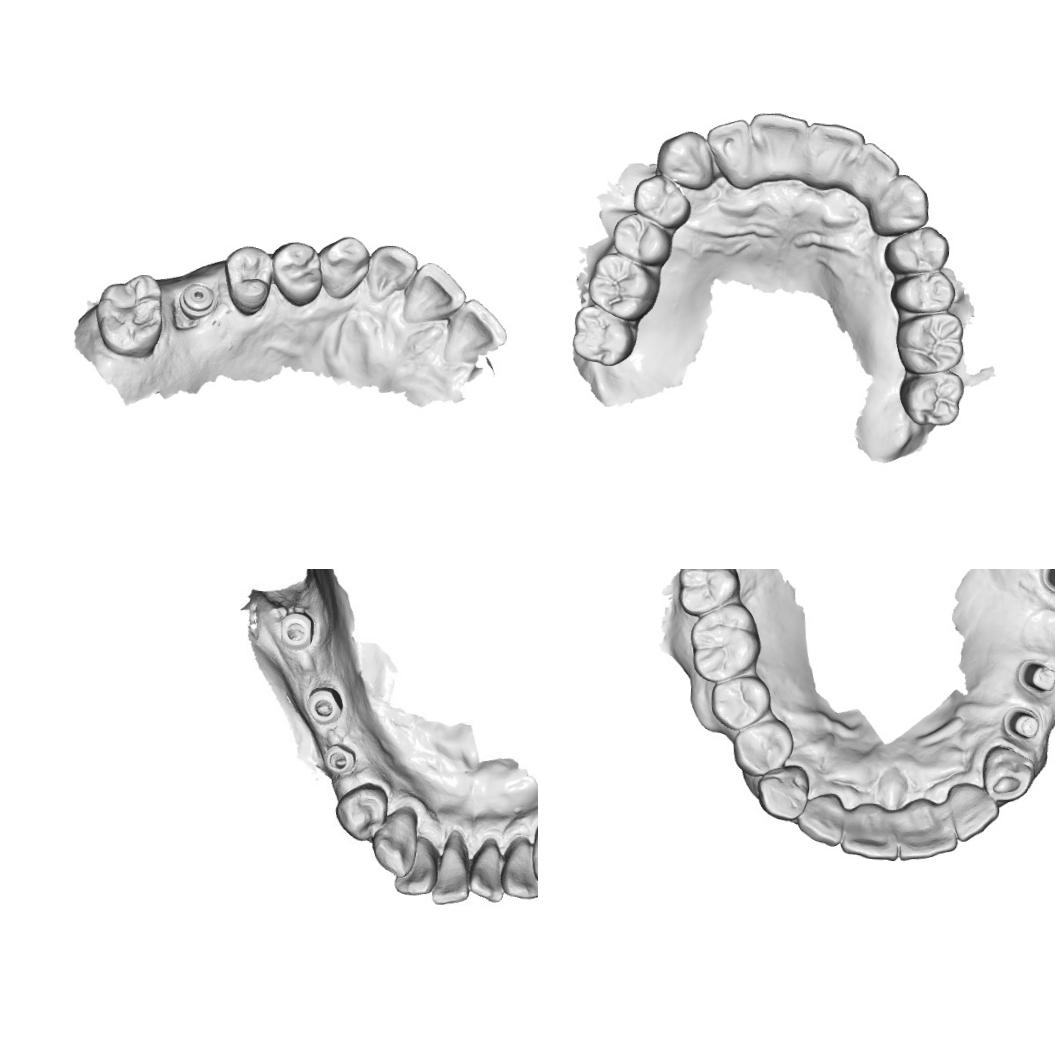abutment: (1013, 657, 1055, 697), (1001, 705, 1041, 743)
canine: (866, 170, 931, 238), (368, 805, 426, 879), (654, 128, 717, 192), (314, 234, 371, 302), (978, 742, 1038, 804), (754, 762, 810, 821)
implant: (276, 602, 328, 650), (175, 280, 220, 320), (304, 684, 344, 729), (321, 740, 356, 782)
incisor: (439, 296, 510, 367), (399, 258, 468, 327), (895, 794, 960, 863), (840, 799, 901, 863), (703, 116, 753, 190), (365, 243, 419, 306), (947, 782, 1000, 844), (804, 116, 864, 168), (746, 110, 808, 160), (392, 836, 436, 902), (464, 836, 506, 905), (429, 839, 472, 906), (795, 790, 844, 847), (848, 140, 900, 185), (501, 839, 538, 900)
molar: (92, 271, 169, 358), (687, 599, 763, 685), (586, 250, 662, 322), (892, 308, 966, 376), (570, 302, 638, 367), (896, 367, 965, 427), (675, 569, 742, 618)
premolar: (220, 243, 275, 317), (269, 239, 325, 308), (330, 778, 386, 847), (730, 718, 794, 778), (609, 208, 673, 267), (708, 673, 772, 732), (882, 222, 950, 276), (630, 172, 692, 231), (888, 267, 956, 314)
